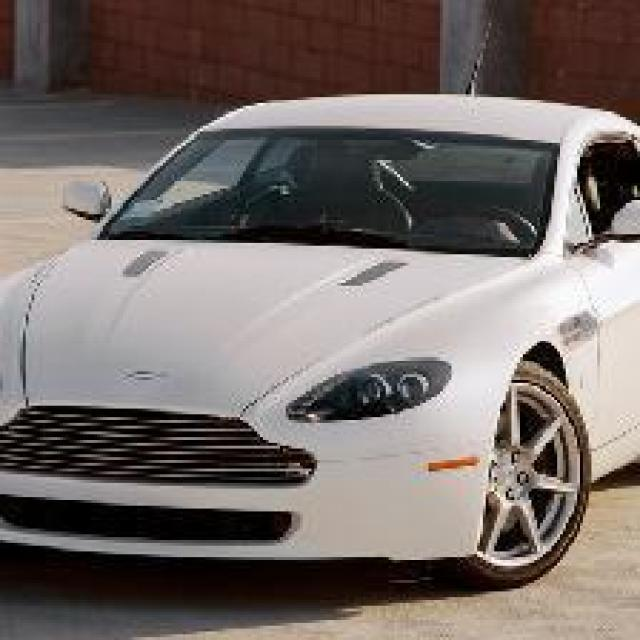damaged: (548, 306, 608, 418)
